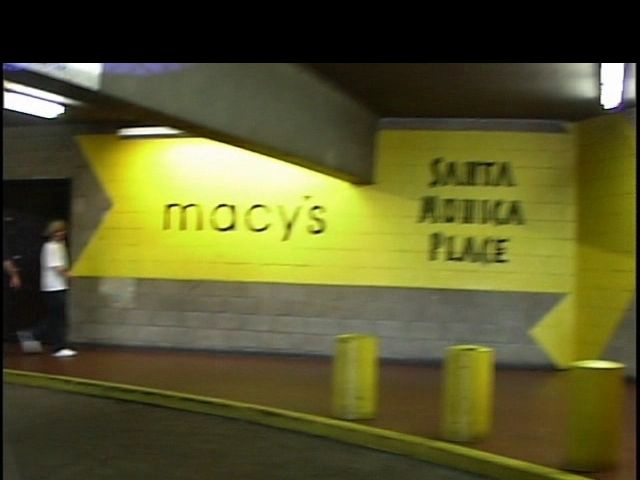person: (21, 208, 90, 371)
